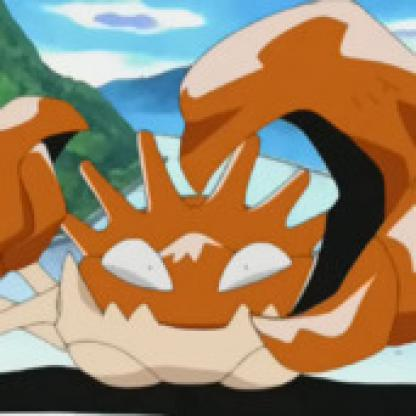Kingler: (1, 6, 415, 390)
